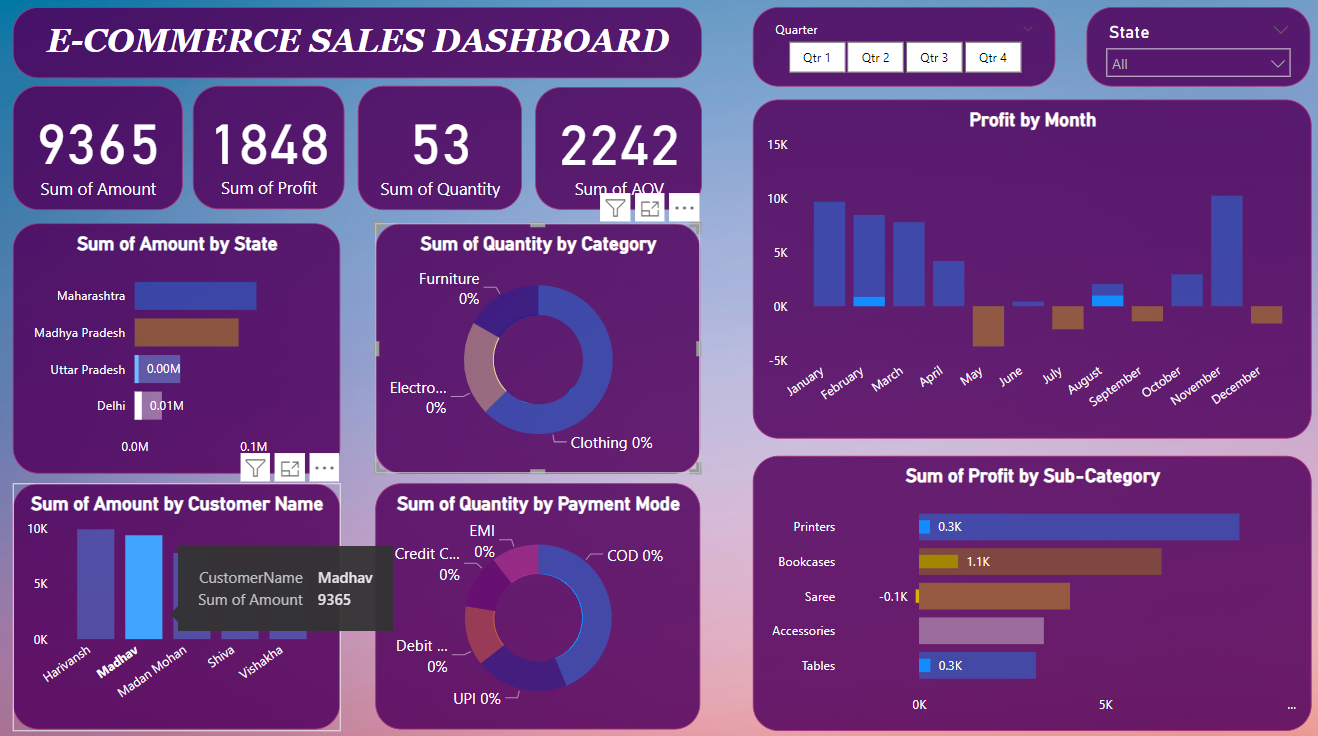

What the dashboard file says about the page in this screenshot:
{"tool":"powerbi","page":{"name":"Page 1","canvas":[1280,720],"ordinal":0},"visuals":[{"type":"textbox","box":[13.3,14.5,664.5,68.7],"z":0},{"type":"columnChart","title":"Profit by Month","fields":{"Category":["Orders.Order Date.Variation.Date Hierarchy.Month"],"Y":["Sum(Details.Profit)"]},"box":[727.2,103.7,539.1,326.8],"z":1000},{"type":"barChart","fields":{"Category":["Details.Sub-Category"],"Y":["Sum(Details.Profit)"]},"box":[726,445,539.1,266.5],"z":2000},{"type":"donutChart","fields":{"Category":["Details.Category"],"Y":["Sum(Details.Quantity)"]},"box":[363,223.1,313.6,241.2],"z":3000},{"type":"donutChart","title":"Sum of Quantity by Payment Mode","fields":{"Y":["Sum(Details.Quantity)"],"Category":["Details.PaymentMode"]},"box":[362.5,473.9,313.6,238.6],"z":4000},{"type":"card","fields":{"Values":["Sum(Details.Amount)"]},"box":[13,91,164,120],"z":5000},{"type":"card","fields":{"Values":["Sum(Details.Quantity)"]},"box":[346,90,158,120],"z":6000},{"type":"card","fields":{"Values":["Sum(Details.Profit)"]},"box":[187,91,146,119],"z":7000},{"type":"card","fields":{"Values":["Sum(Details.AOV)"]},"box":[517,92,161,118],"z":8000},{"type":"barChart","fields":{"Category":["Orders.State"],"Y":["Sum(Details.Amount)"]},"box":[13.3,223.1,316,241.2],"z":9000},{"type":"columnChart","title":"Sum of Amount by Customer Name","fields":{"Category":["Orders.CustomerName"],"Y":["Sum(Details.Amount)"]},"box":[13.6,473.9,315.9,238.6],"z":10000},{"type":"slicer","fields":{"Values":["Orders.Order Date.Variation.Date Hierarchy.Quarter"]},"box":[727.2,14.5,291.9,77.2],"z":11000},{"type":"slicer","fields":{"Values":["Orders.State"]},"box":[1049.2,14.5,215.9,77.2],"z":12000}]}

Visuals, with their boxes in screenshot pixels (x1, y1, x2, y2), scaled from the page's 1280x720 canvas onto the 1318x736 screenshot:
textbox: 14, 15, 698, 85
"Profit by Month" columnChart: 749, 106, 1304, 440
barChart - Details.Sub-Category x Sum(Details.Profit): 748, 455, 1303, 727
donutChart - Details.Category x Sum(Details.Quantity): 374, 228, 697, 475
"Sum of Quantity by Payment Mode" donutChart: 373, 484, 696, 728
card - Sum(Details.Amount): 13, 93, 182, 216
card - Sum(Details.Quantity): 356, 92, 519, 215
card - Sum(Details.Profit): 193, 93, 343, 215
card - Sum(Details.AOV): 532, 94, 698, 215
barChart - Orders.State x Sum(Details.Amount): 14, 228, 339, 475
"Sum of Amount by Customer Name" columnChart: 14, 484, 339, 728
slicer - Orders.Order Date.Variation.Date Hierarchy.Quarter: 749, 15, 1049, 94
slicer - Orders.State: 1080, 15, 1303, 94
